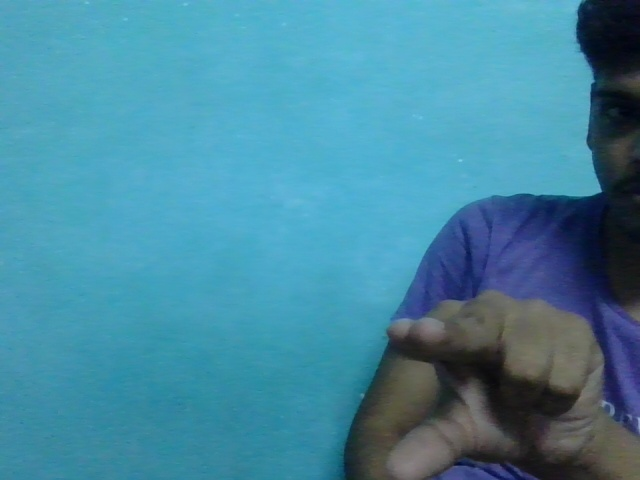no: (378, 294, 618, 474)
